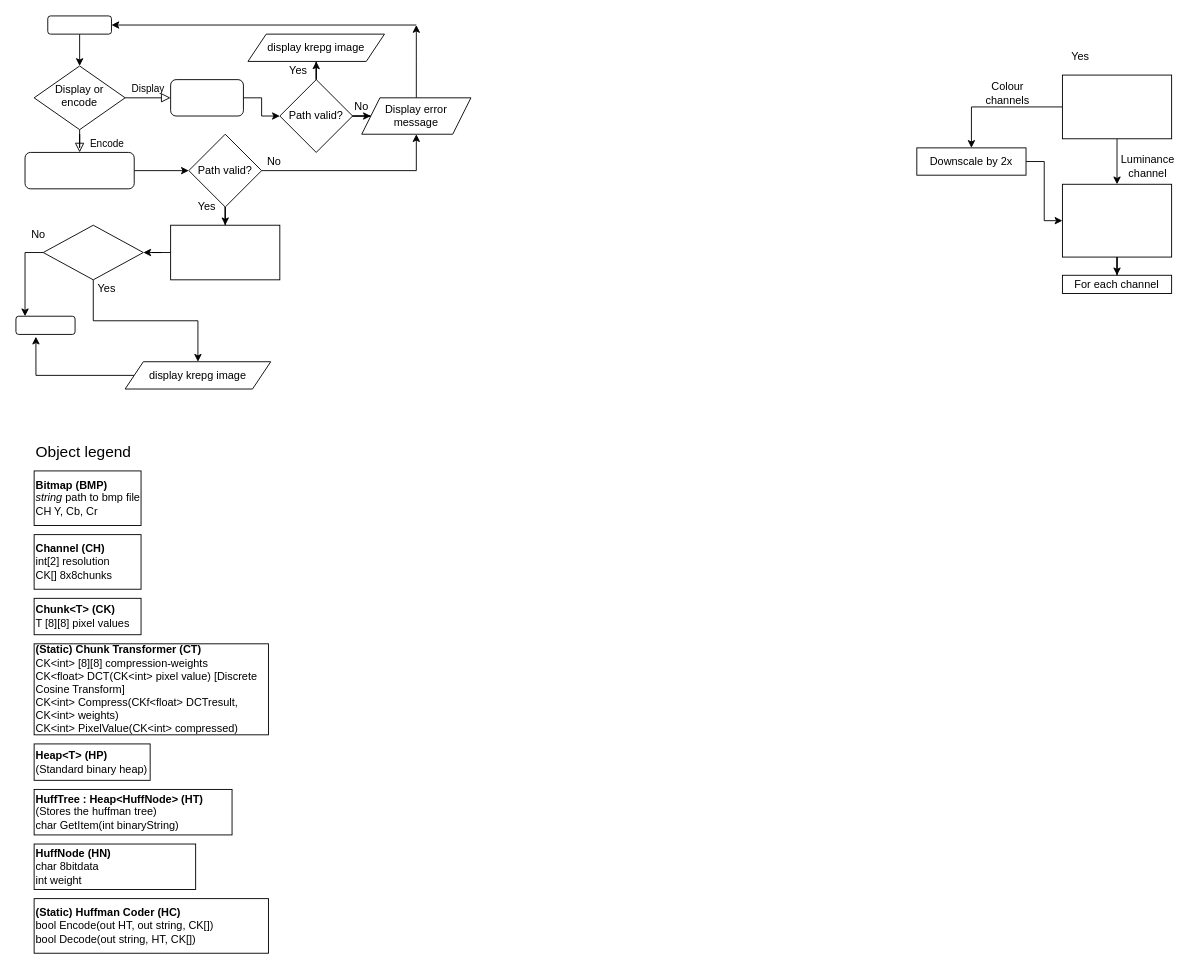
This 1190x969 diagram has some shape labels left out. Each missing label, with the centre of its shape:
Ask for path: (206,97)
Ask for path for bitmap image: (79,170)
Ask to display the new file: (92,252)
Read bitmap, transform to krepg and store in a new file in the same path: (225,252)
Start: (79,24)
Stop: (45,324)
Store channel as a number of 8x8 chunks, repeating the pixel values at the edges: (1117,220)
Transform bitmap RGB to ycbcr and store channels in three arrays: (1117,106)
